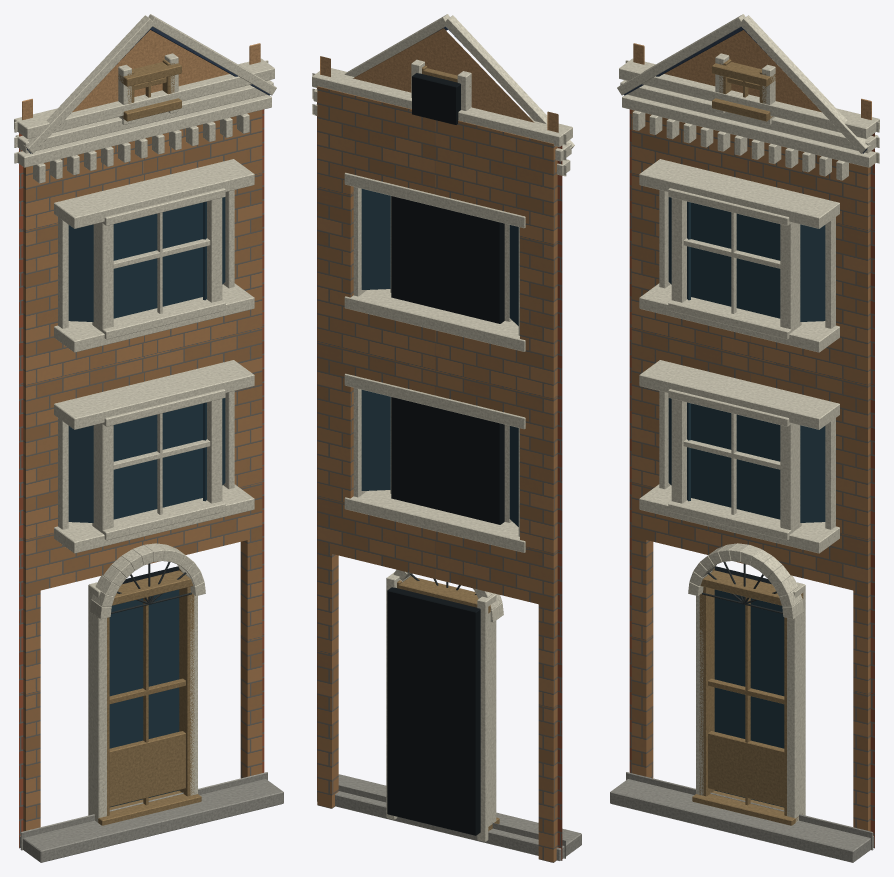
Rendered from VICT24_lod1.glb.
3 renders of one model, left to right at view 1: azimuth 30°, elevation 25°; view 2: azimuth 150°, elevation 25°; view 3: azimuth 330°, elevation 25°, orthographic.
Visible parts, largest first — view 1: VICT24_FRONT_LOD1; view 2: VICT24_FRONT_LOD1; view 3: VICT24_FRONT_LOD1.
Part boxes in pixels (x1,y1,x2,y2): VICT24_FRONT_LOD1: (14, 14, 283, 862); VICT24_FRONT_LOD1: (312, 14, 581, 862); VICT24_FRONT_LOD1: (610, 14, 879, 862).
Size of the model in its own units: 3.44 by 10.46 by 0.765.
Materials: 11 (9 with a texture image).
